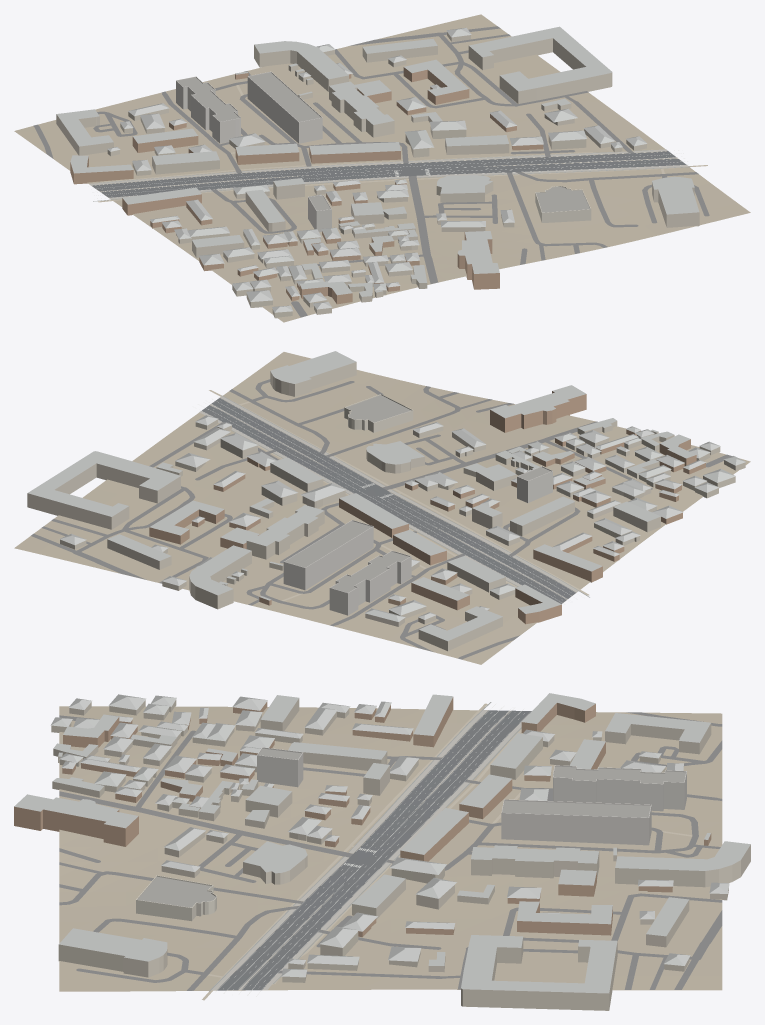
File: bolak_-8_-2.glb
The picture shows the model from 3 angles, top to bottom: view 1: azimuth 30°, elevation 25°; view 2: azimuth 150°, elevation 25°; view 3: azimuth 270°, elevation 25°; orthographic projection. The views are drawn at different scales.
Parts seen in each view (by area): view 1: Yer_Tuproq-col, Tom_Shifer, Devor_Suvoq-col, Yol_Mahalla-col, Devor_Gisht-col, Yol_Asfalt-col, Devor_Panel-col, Tom_Tekis, Trotuar, Yol_Piyoda, Yol_Chiziq, Ariq (+1 smaller); view 2: Yer_Tuproq-col, Tom_Shifer, Devor_Suvoq-col, Yol_Mahalla-col, Devor_Gisht-col, Yol_Asfalt-col, Devor_Panel-col, Tom_Tekis, Trotuar, Yol_Piyoda, Devor_Jamoat-col, Yol_Chiziq (+1 smaller); view 3: Yer_Tuproq-col, Tom_Shifer, Devor_Suvoq-col, Yol_Mahalla-col, Yol_Asfalt-col, Devor_Gisht-col, Devor_Panel-col, Tom_Tekis, Trotuar, Yol_Chiziq, Yol_Piyoda, Devor_Jamoat-col (+1 smaller).
Part boxes in pixels (<box>): Yer_Tuproq-col: <box>14,14,750,322</box>; Tom_Shifer: <box>56,26,699,312</box>; Devor_Suvoq-col: <box>56,32,699,318</box>; Yol_Mahalla-col: <box>33,26,709,317</box>; Devor_Gisht-col: <box>70,67,543,304</box>; Yol_Asfalt-col: <box>92,151,686,197</box>; Devor_Panel-col: <box>176,71,331,231</box>; Tom_Tekis: <box>177,72,589,212</box>; Trotuar: <box>89,149,688,199</box>; Yol_Piyoda: <box>98,85,707,202</box>; Yol_Chiziq: <box>88,150,688,198</box>; Ariq: <box>93,150,690,201</box>; Yer_Tuproq-col: <box>14,352,750,664</box>; Tom_Shifer: <box>27,351,745,641</box>; Devor_Suvoq-col: <box>27,362,745,651</box>; Yol_Mahalla-col: <box>31,379,732,659</box>; Devor_Gisht-col: <box>149,391,705,624</box>; Yol_Asfalt-col: <box>202,398,575,603</box>; Devor_Panel-col: <box>283,466,552,615</box>; Tom_Tekis: <box>286,395,550,592</box>; Trotuar: <box>199,396,577,599</box>; Yol_Piyoda: <box>209,390,589,601</box>; Devor_Jamoat-col: <box>344,394,413,432</box>; Yol_Chiziq: <box>198,397,581,604</box>; Yer_Tuproq-col: <box>59,706,722,991</box>; Tom_Shifer: <box>14,693,750,993</box>; Devor_Suvoq-col: <box>51,698,750,1010</box>; Yol_Mahalla-col: <box>59,712,722,990</box>; Yol_Asfalt-col: <box>217,710,531,990</box>; Devor_Gisht-col: <box>14,697,711,937</box>; Devor_Panel-col: <box>257,747,686,845</box>; Tom_Tekis: <box>137,748,685,907</box>; Trotuar: <box>211,710,528,990</box>; Yol_Chiziq: <box>216,704,530,996</box>; Yol_Piyoda: <box>202,703,692,1000</box>; Devor_Jamoat-col: <box>136,875,216,921</box>.
Size of what is drawn, in the model's own units: 441 by 23.61 by 445.
